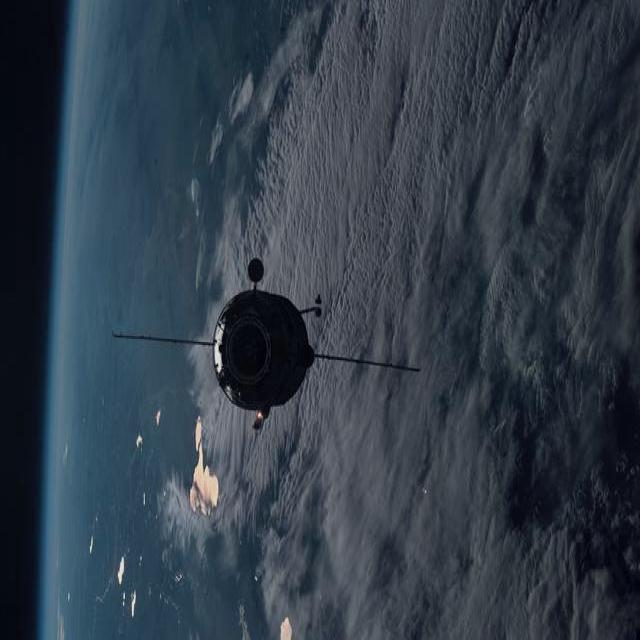medium_debris: (112, 259, 418, 426)
